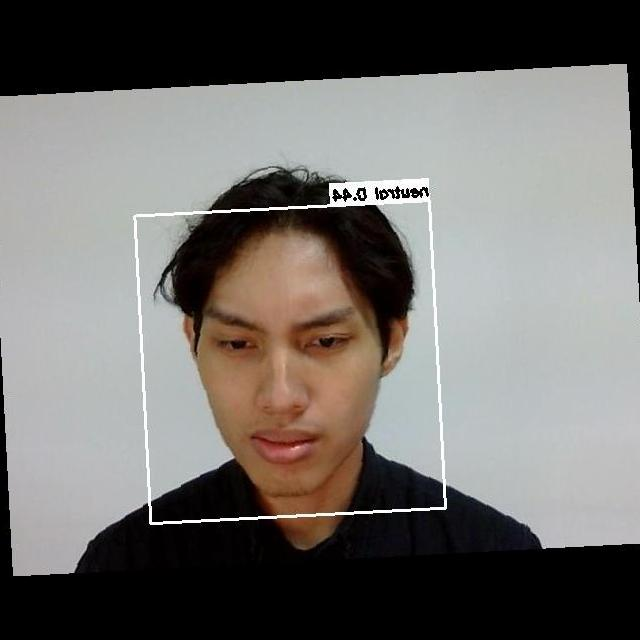Angry: (189, 285, 392, 473)
